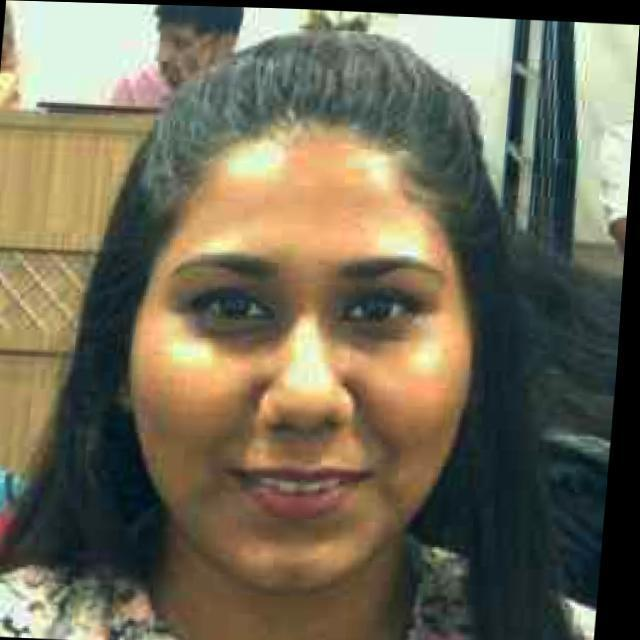puffy_eyes: (198, 316, 282, 348), (335, 316, 414, 349)
